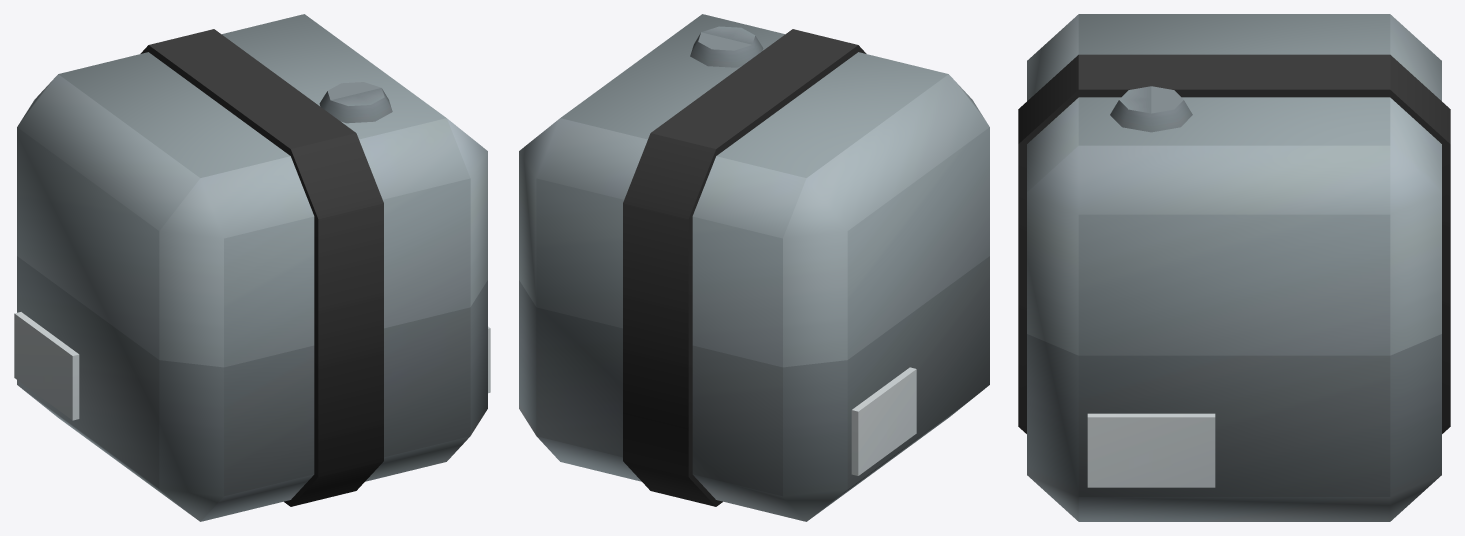
File: cargo_B_packed.glb
3 views of the same model, side by side, from view 1: azimuth 30°, elevation 25°; view 2: azimuth 150°, elevation 25°; view 3: azimuth 270°, elevation 25° (orthographic). The views are drawn at different scales.
Visible parts, largest first — view 1: cargo_B_packed_Cube.15114; view 2: cargo_B_packed_Cube.15114; view 3: cargo_B_packed_Cube.15114.
Part boxes in pixels (x1,y1,x2,y2): cargo_B_packed_Cube.15114: [14, 14, 490, 521]; cargo_B_packed_Cube.15114: [519, 14, 989, 521]; cargo_B_packed_Cube.15114: [1018, 14, 1450, 521].
Bounding box in the file's own units: 0.5205 × 0.5303 × 0.5205.
1 material, 1 textured.
